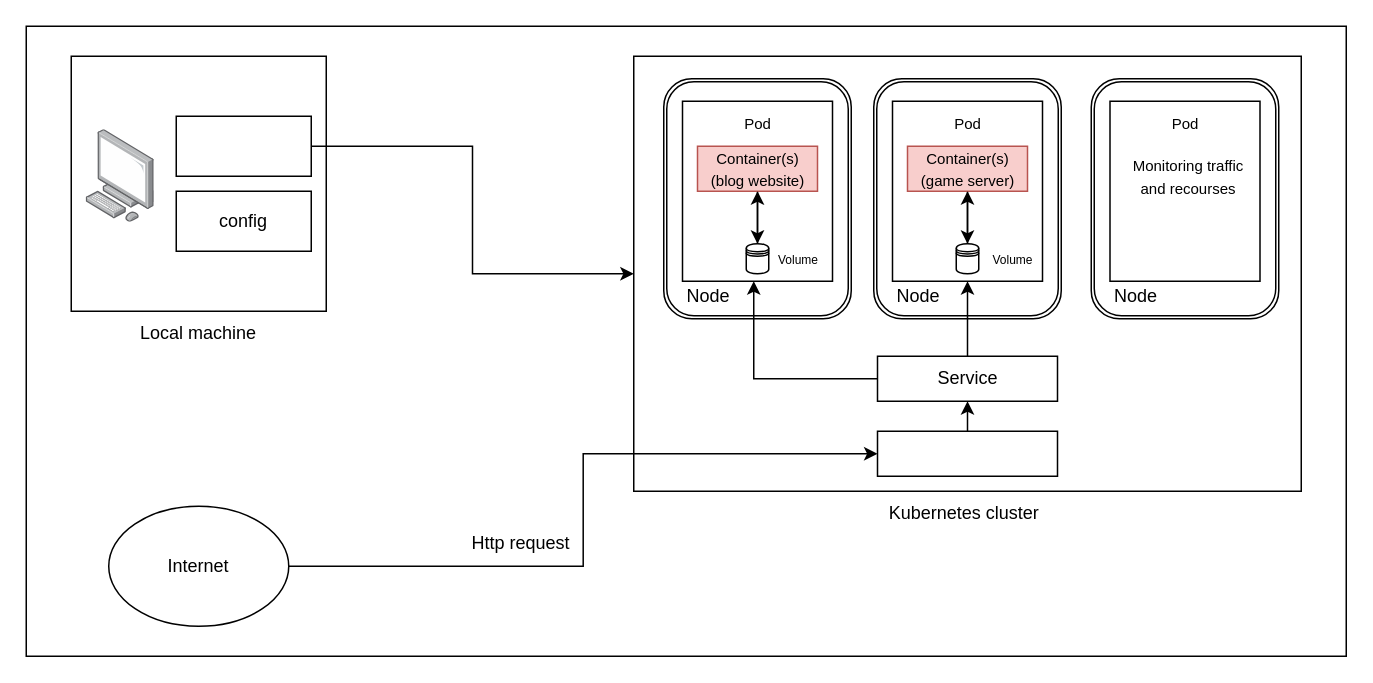
Image size: 1373x683. Some labels were removed from this diagram. The shapes that lost their labels are listed below. From the top down, each one's box as (x1, y1, x2, y2) in pixels, then its label:
(175, 115, 311, 176): kubectl
(876, 430, 1058, 476): Ingress
